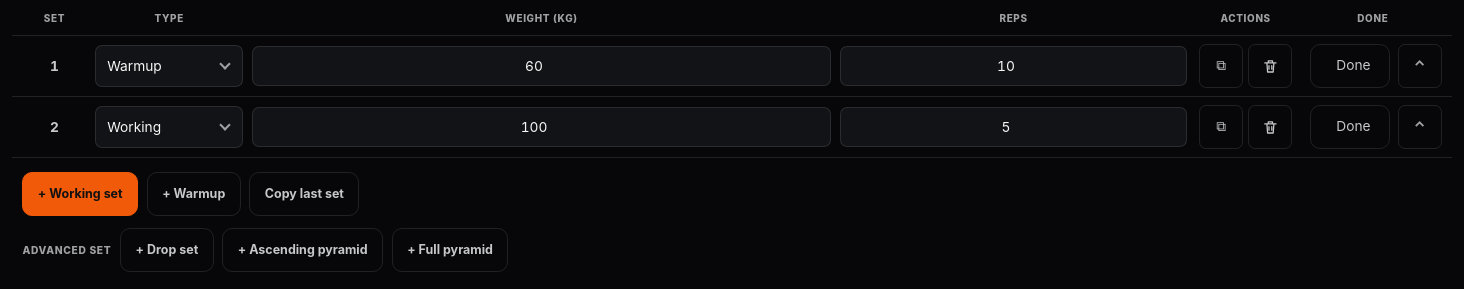
WorkoutSetList › completes a set with the current draft values rather than stale persisted values
Step 1. Replace the text in the number field named "Set 2 weight in kg" with "102.5" → [542, 127], box [252,107,831,147]
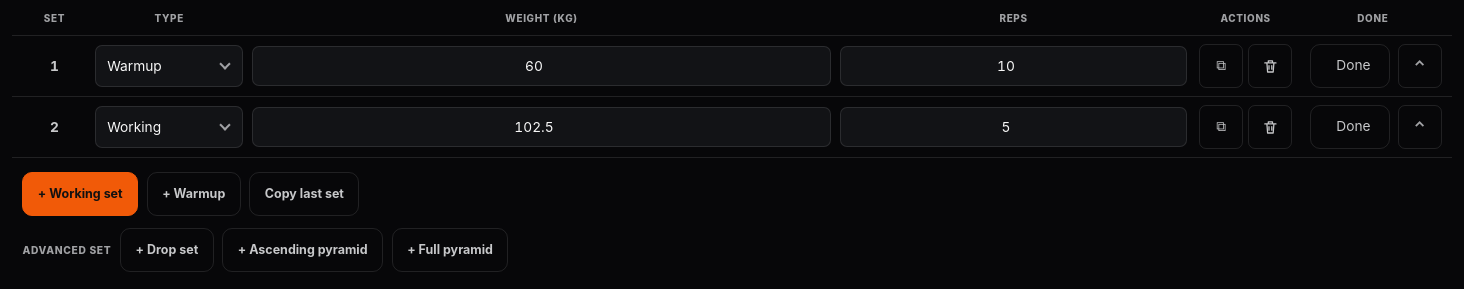
Step 2. Replace the text in the number field named "Set 2 reps" with "6" → [1014, 127], box [840,107,1187,147]
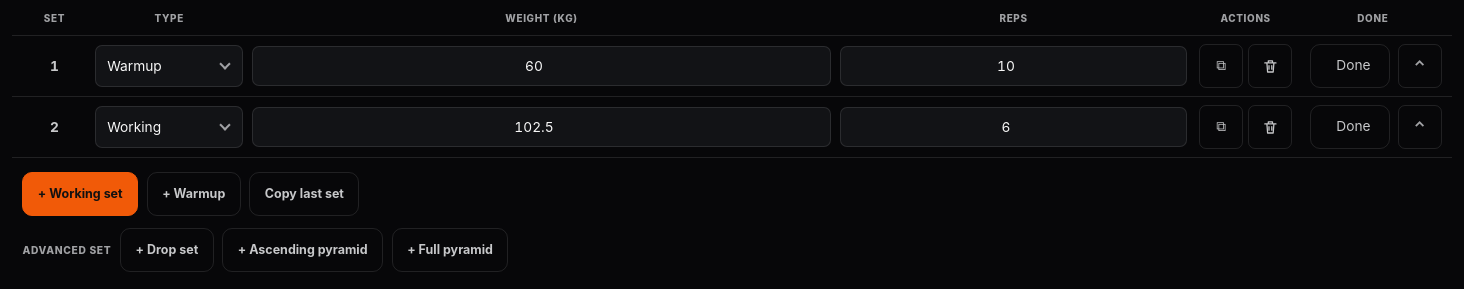
Step 3. Click the button with aria-label "Mark set 2 complete" → [1350, 127], box [1310,105,1390,149]
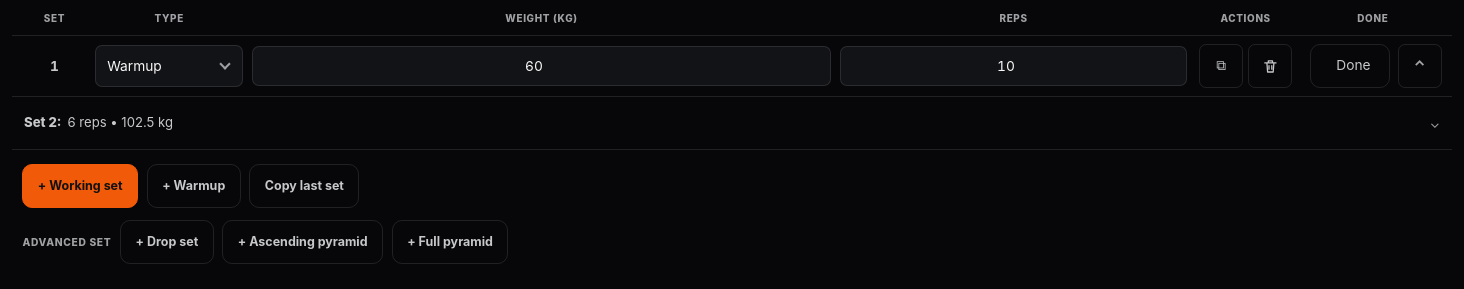
Expected: the button with aria-label "Expand set 2" shows "Set 2:", [12,97,1452,149]
Expected: the text "6 reps • 102.5 kg" is shown, [68,114,173,132]
